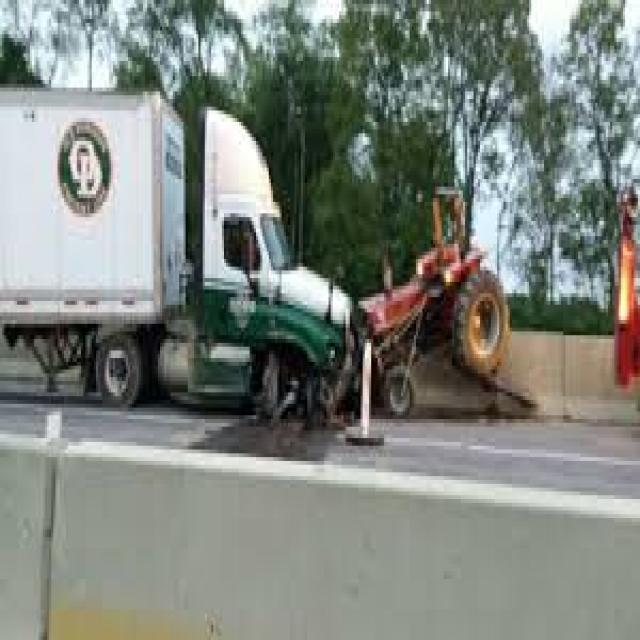accident: (60, 75, 569, 476)
